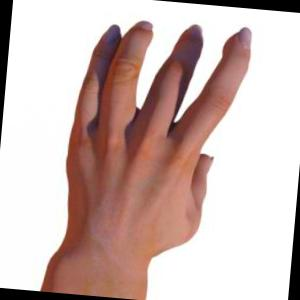paper: (41, 21, 251, 300)
